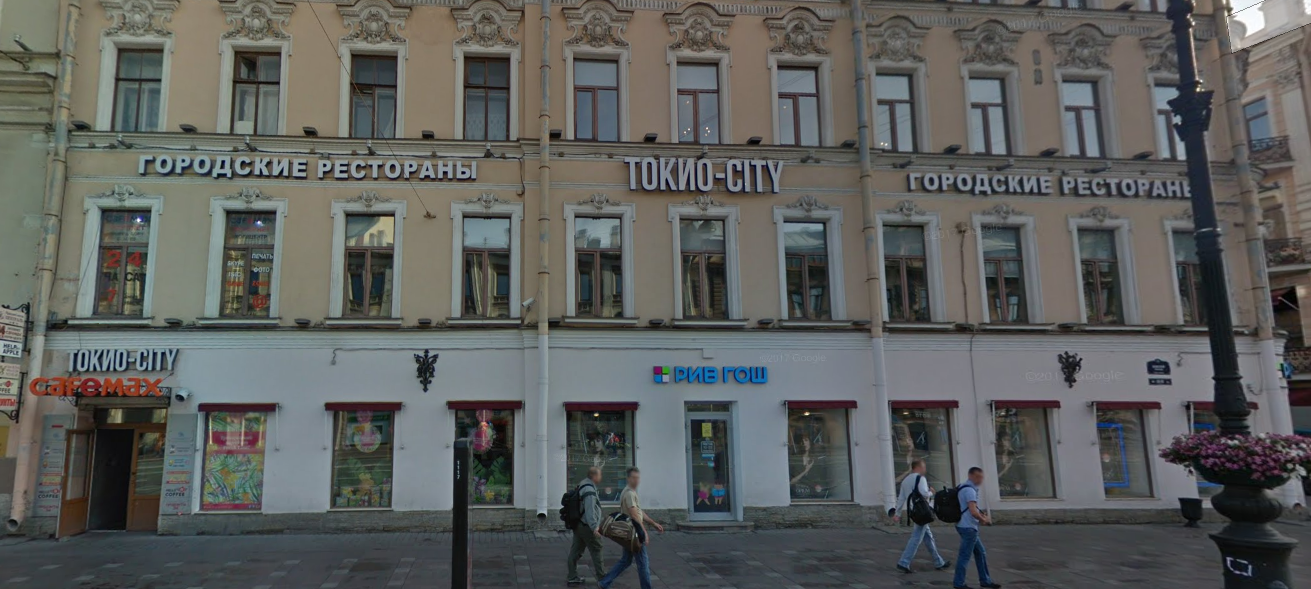cantilever: (1, 304, 33, 427)
door: (66, 427, 163, 537), (218, 212, 280, 319), (691, 412, 739, 527)
signboard: (139, 154, 477, 181), (909, 172, 1189, 194), (627, 157, 782, 193), (26, 374, 175, 404), (62, 344, 183, 373), (652, 362, 767, 385)
window: (196, 410, 266, 504), (455, 407, 517, 511), (1094, 397, 1157, 499), (677, 217, 737, 323), (977, 221, 1038, 325), (91, 210, 150, 315), (994, 409, 1062, 499), (328, 412, 390, 510), (881, 216, 936, 326), (341, 211, 397, 318), (791, 406, 854, 498), (893, 406, 962, 490), (785, 215, 835, 328), (1075, 224, 1130, 326), (459, 210, 510, 320), (573, 213, 622, 327), (573, 406, 627, 495), (227, 53, 285, 133), (574, 56, 625, 145), (110, 46, 161, 134), (674, 58, 724, 144), (772, 66, 824, 148), (874, 69, 923, 156), (1062, 81, 1113, 162), (347, 55, 396, 139), (967, 76, 1013, 158), (463, 62, 508, 142)
